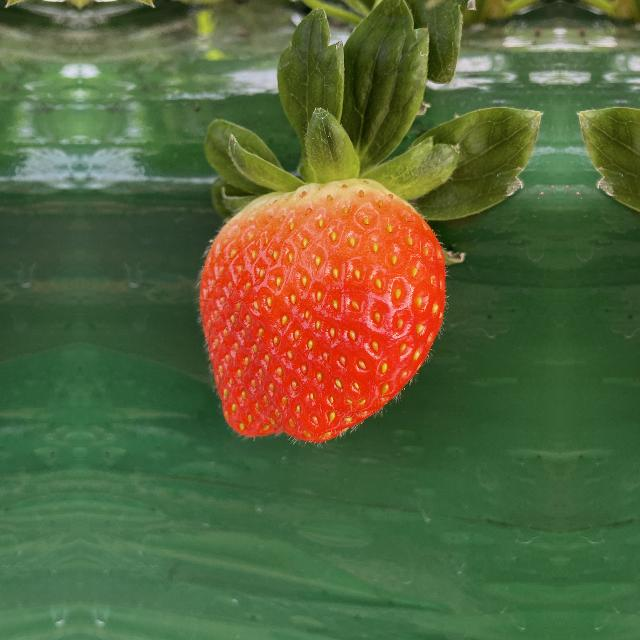Health_100: (200, 172, 452, 442)
